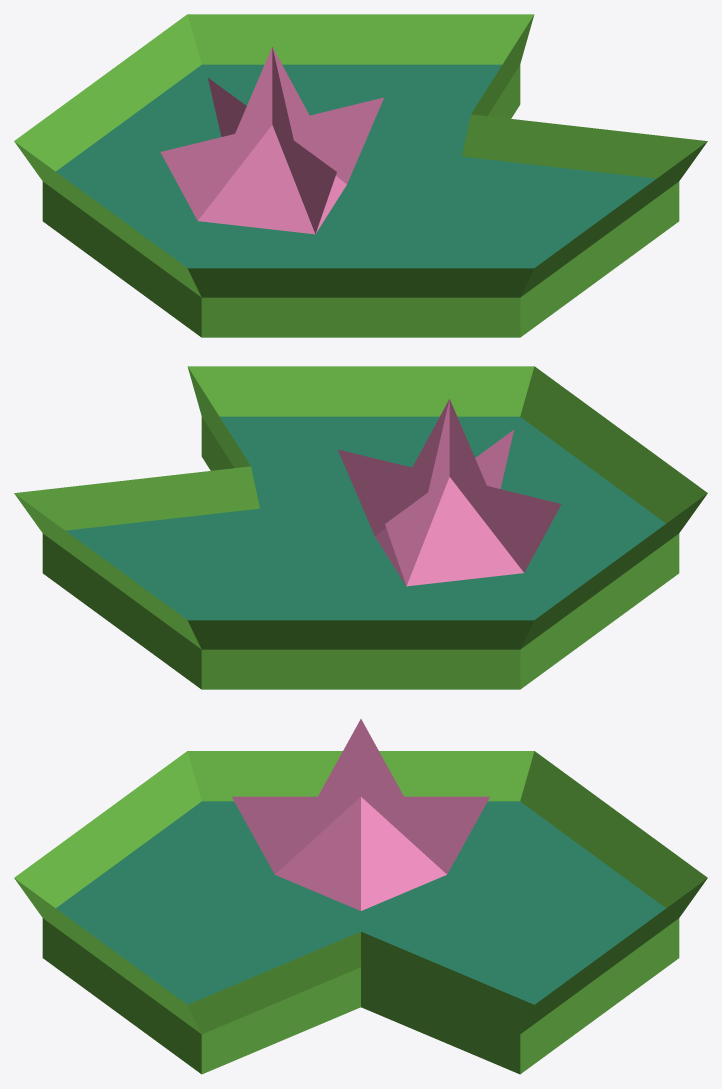
Rendered from lily.glb.
3 views of the same model, one above another, from view 1: azimuth 30°, elevation 25°; view 2: azimuth 150°, elevation 25°; view 3: azimuth 270°, elevation 25° (orthographic).
Visible parts, largest first — view 1: lily_large; view 2: lily_large; view 3: lily_large.
Boxes of the visible parts, bbox=[...] form: lily_large: bbox=[14, 14, 707, 337]; lily_large: bbox=[14, 366, 707, 689]; lily_large: bbox=[14, 719, 707, 1074].
Bounding box in the file's own units: 0.5437 × 0.196 × 0.6278.
